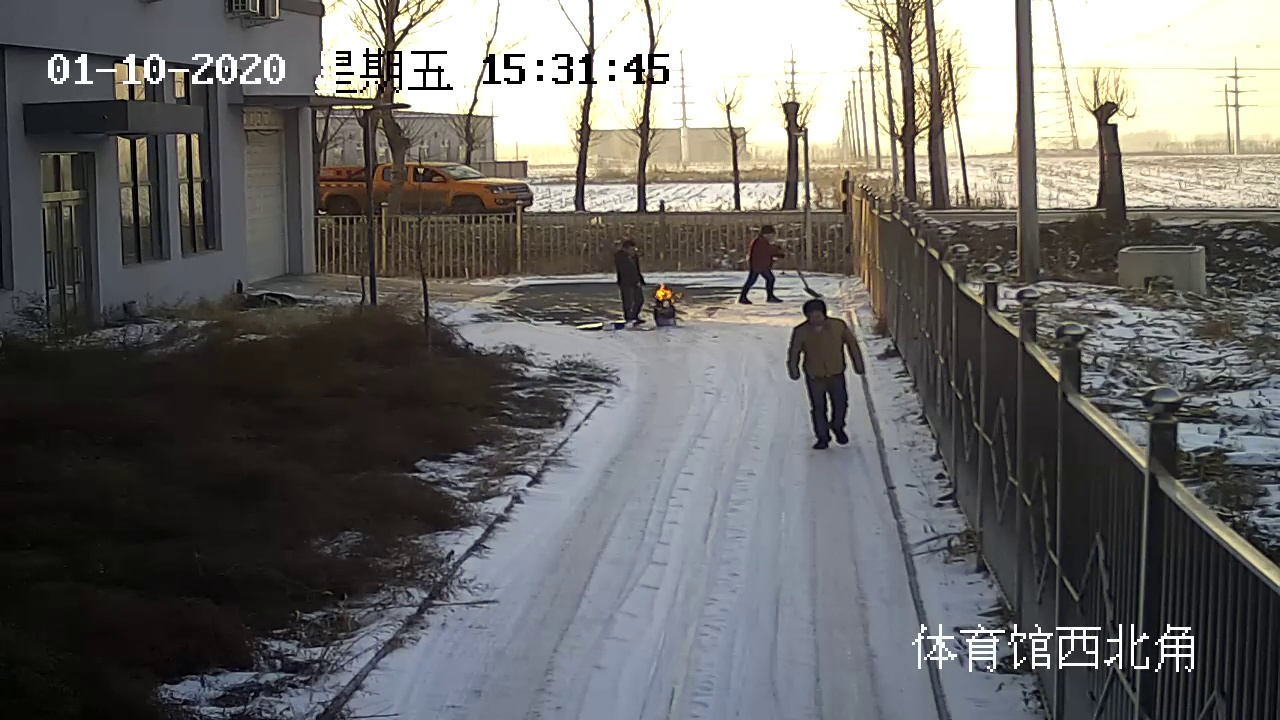fire: (653, 281, 681, 302)
